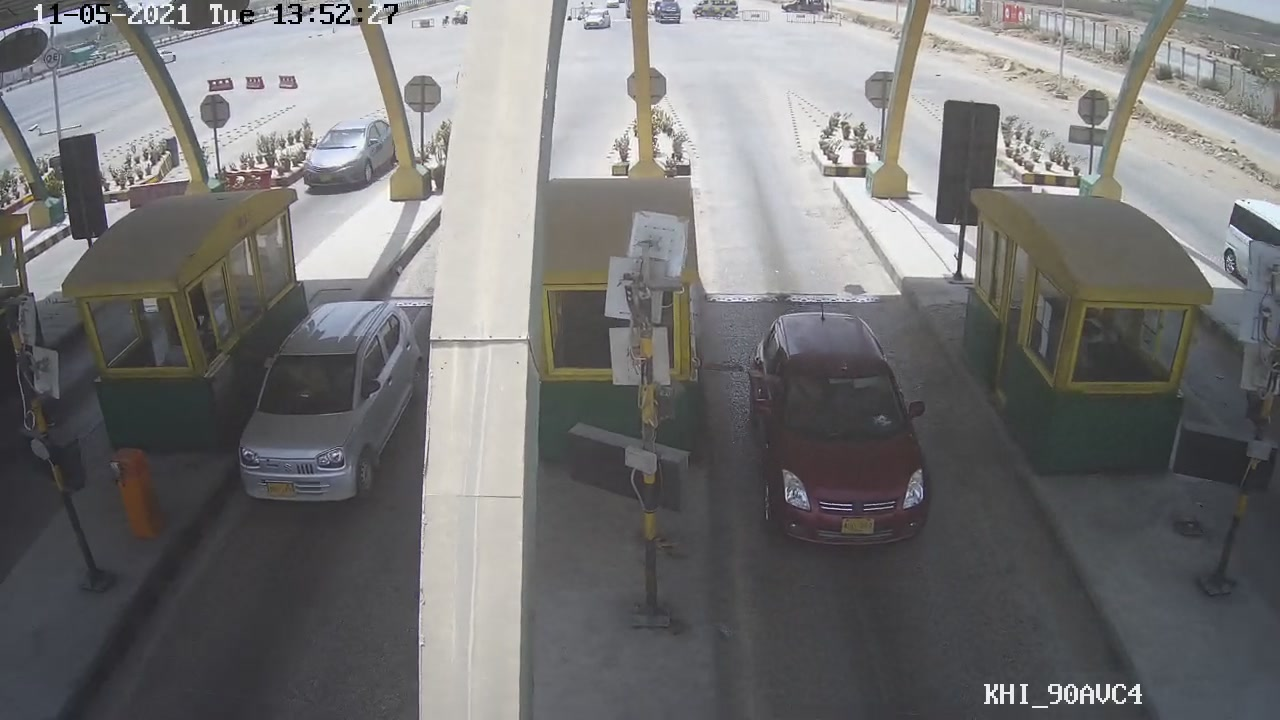F1: (737, 305, 937, 555)
